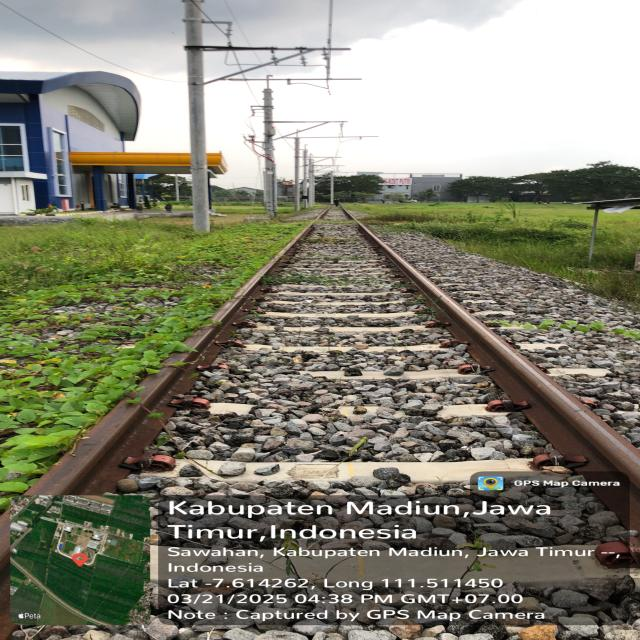rail-detection: (356, 223, 640, 532), (26, 366, 193, 495), (174, 225, 314, 364)
